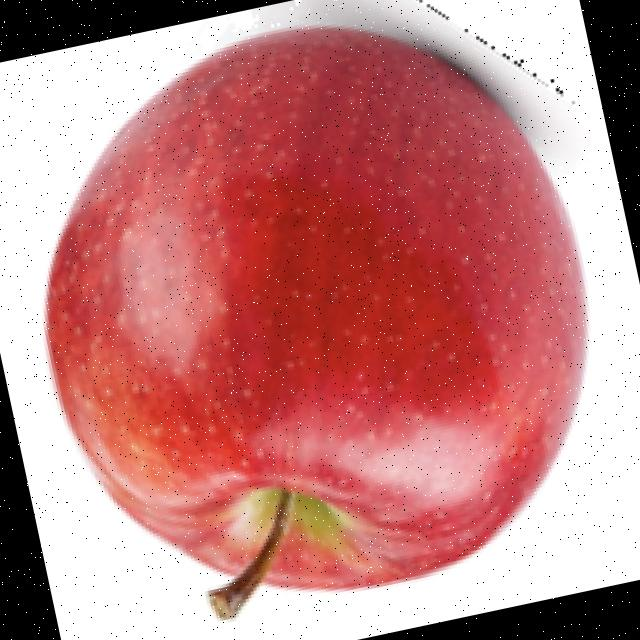apple: (38, 0, 591, 625)
